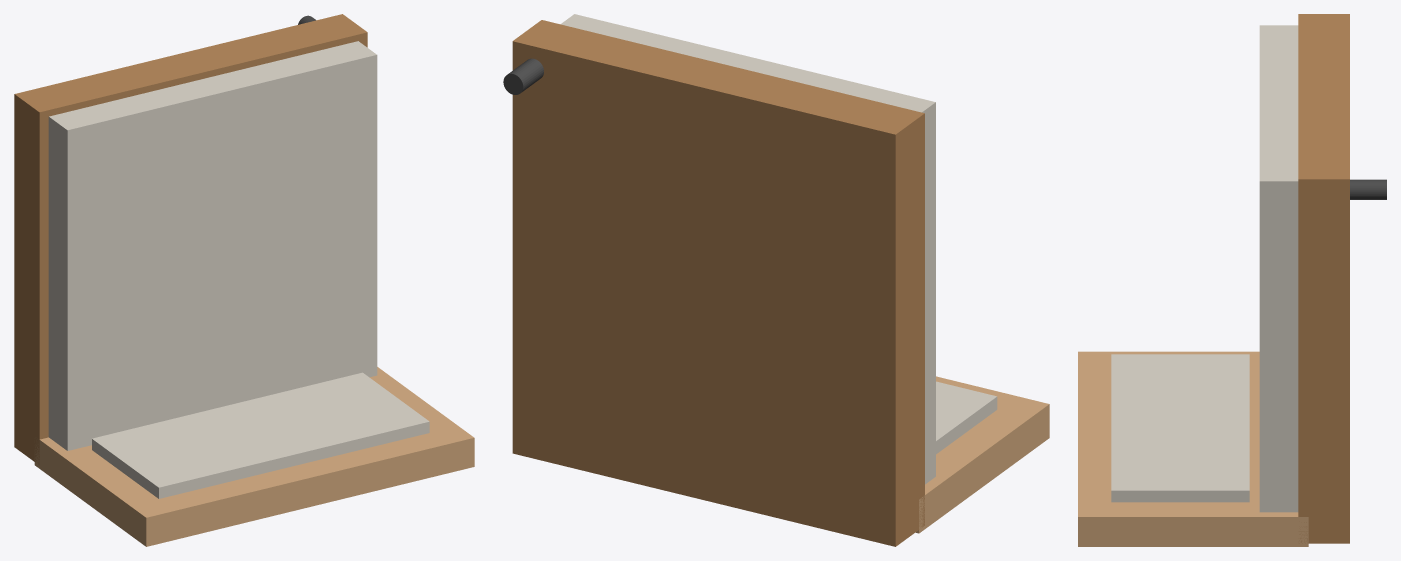
File: beds.glb
3 views of the same model, side by side, from view 1: azimuth 30°, elevation 25°; view 2: azimuth 150°, elevation 25°; view 3: azimuth 270°, elevation 25° (orthographic). The views are drawn at different scales.
Parts seen in each view (by area): view 1: Mattress, Base, Headboard, HeadboardPadding; view 2: Base, Mattress, Headboard, HeadboardPadding, Leg; view 3: Base, HeadboardPadding, Mattress, Headboard, Leg.
Part boxes in pixels (x1,y1,x2,y2): Mattress: (48, 41, 377, 450); Base: (14, 14, 367, 465); Headboard: (34, 367, 474, 546); HeadboardPadding: (92, 372, 429, 498); Base: (512, 20, 924, 546); Mattress: (561, 14, 935, 484); Headboard: (915, 376, 1049, 533); HeadboardPadding: (936, 381, 997, 454); Leg: (503, 58, 543, 94); Base: (1298, 14, 1349, 543); HeadboardPadding: (1111, 354, 1249, 502); Mattress: (1259, 25, 1298, 512); Headboard: (1078, 351, 1308, 546); Leg: (1350, 179, 1386, 199).
Size of the model in its own units: 2.12 by 2.2 by 1.67.
